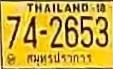2: (50, 15, 62, 48)
3: (94, 16, 107, 46)
4: (23, 15, 36, 47)
5: (80, 15, 92, 47)
6: (64, 15, 78, 47)
7: (6, 15, 20, 48), (6, 15, 20, 40)
SPK: (25, 51, 94, 64)
